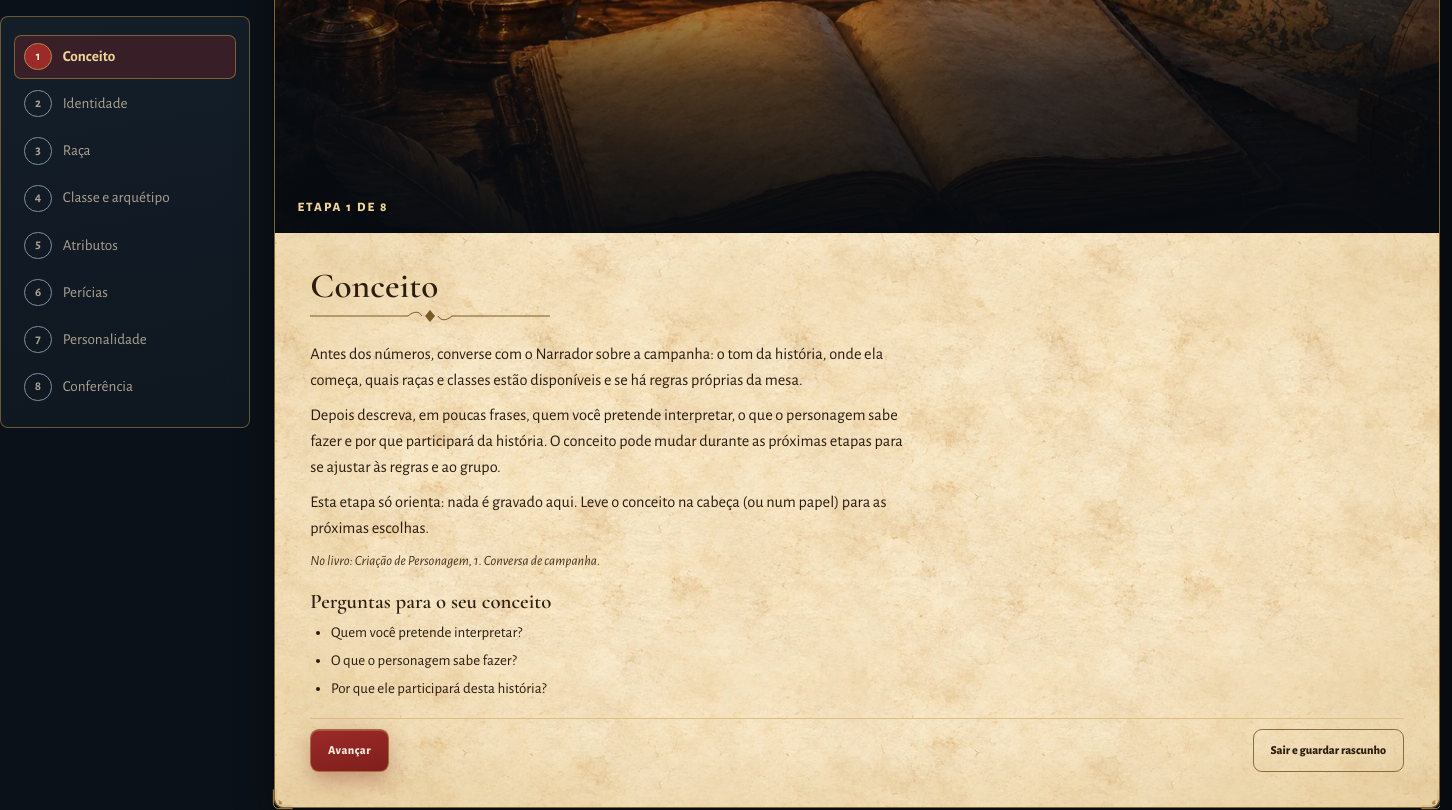
Test case: assistente de criação: estrutura e navegação (4.3) › avanço bloqueado com motivo junto ao campo Nome
(page scrolled)
Click the button "Avançar" at {"x": 350, "y": 750}, box 310,729 -> 389,772
(page scrolled)
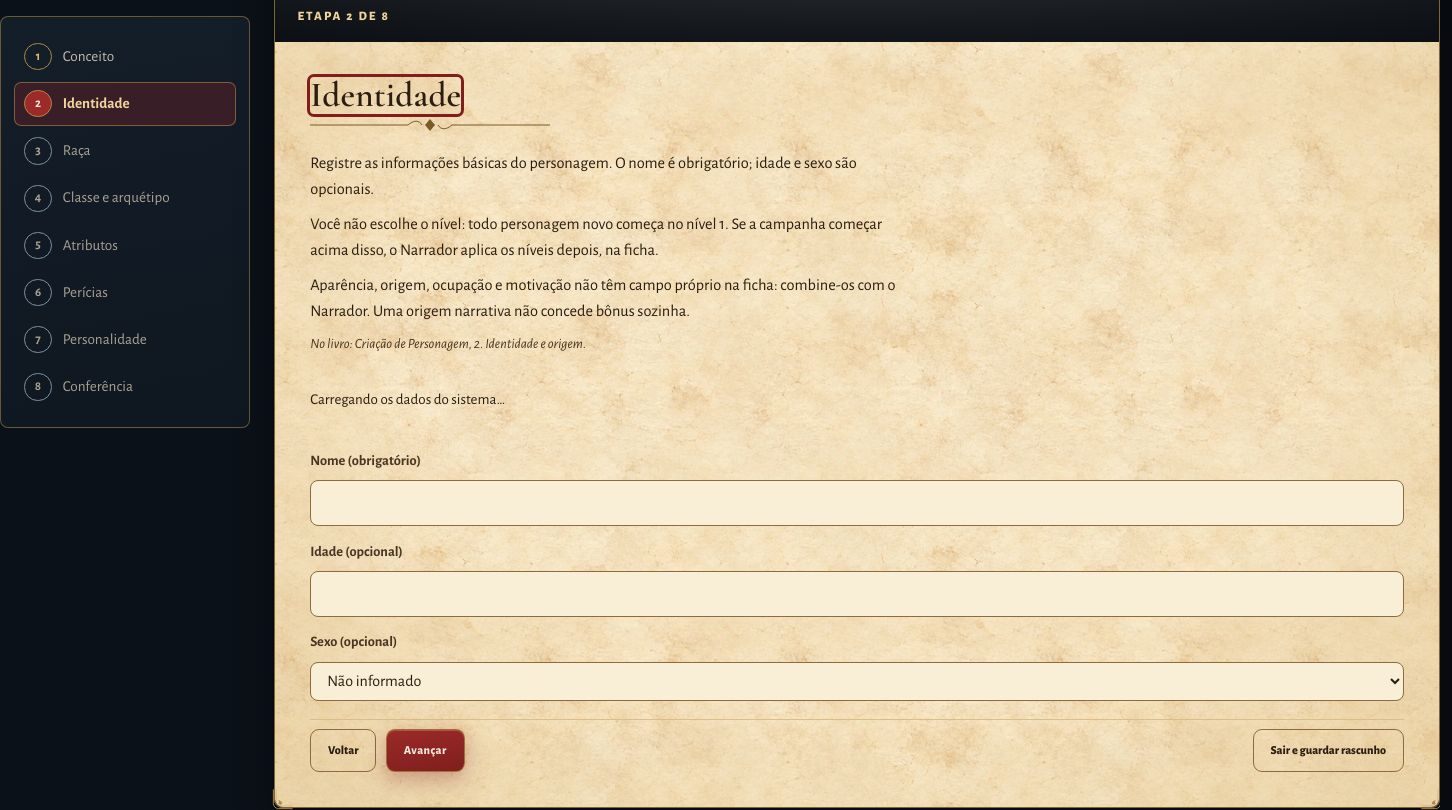
Expected: the heading reads "Identidade", 310,73 -> 461,116
Click the button "Avançar" at {"x": 425, "y": 751}, box 386,729 -> 465,772
(page scrolled)
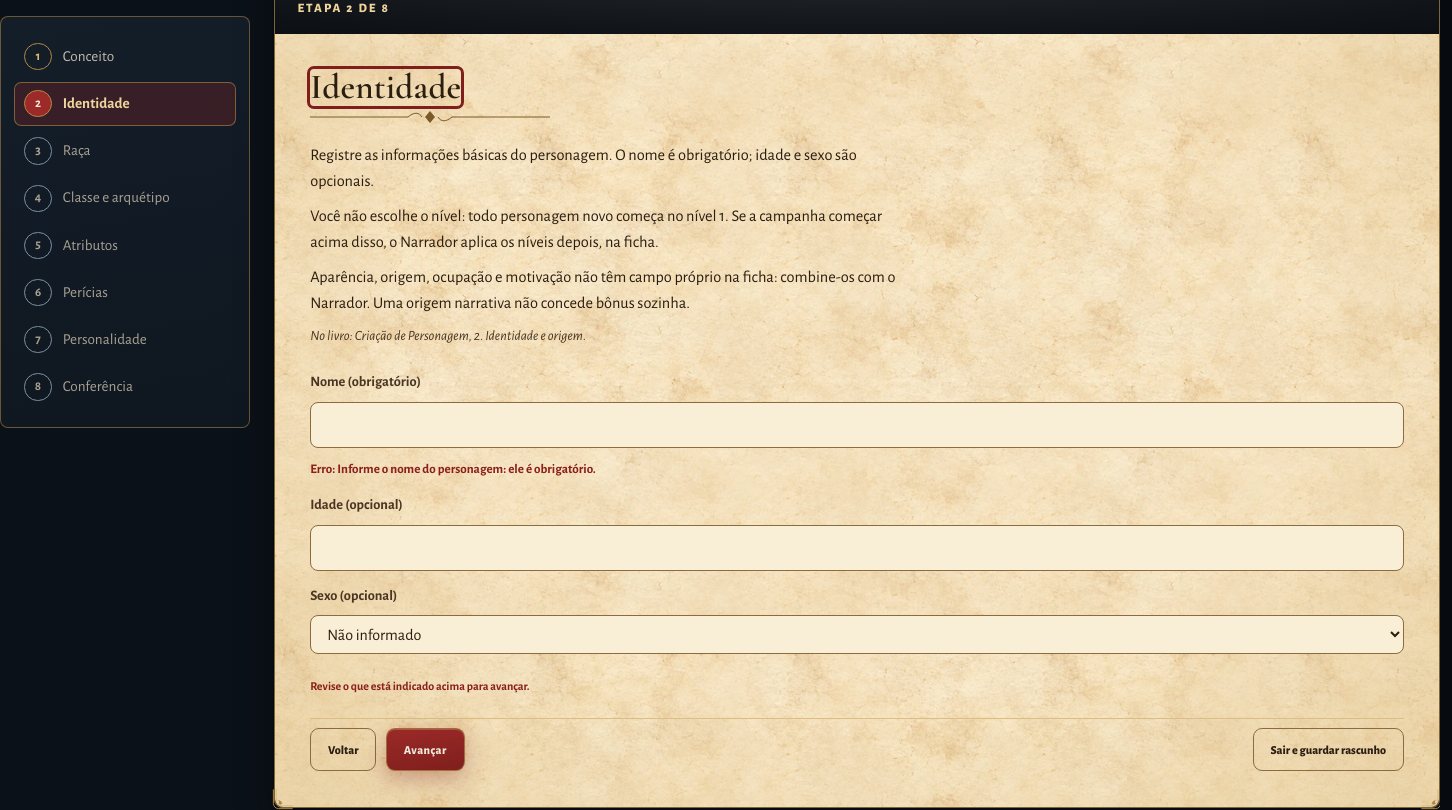
Expected: the heading reads "Identidade", 310,65 -> 461,108
Expected: the message shows "Revise", 310,680 -> 530,692
